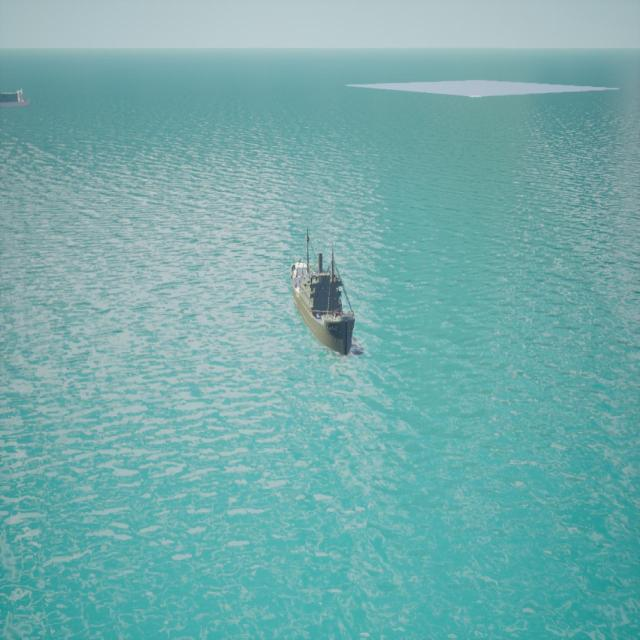fishing ship: (291, 238, 354, 359)
